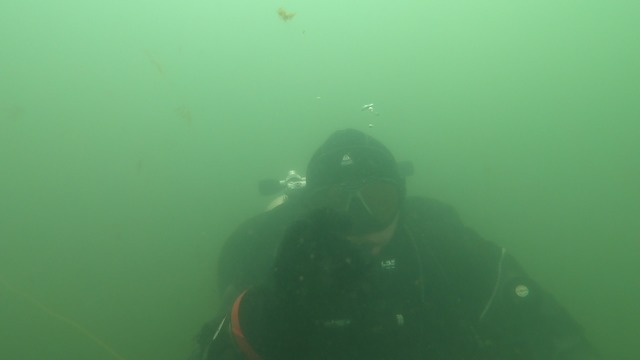Diver: (164, 89, 613, 352)
Head: (277, 125, 444, 275)
